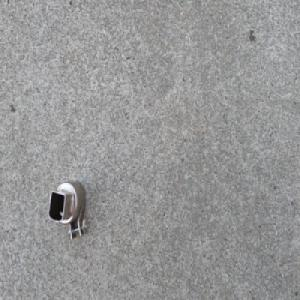MetalPart: (46, 178, 89, 241)
